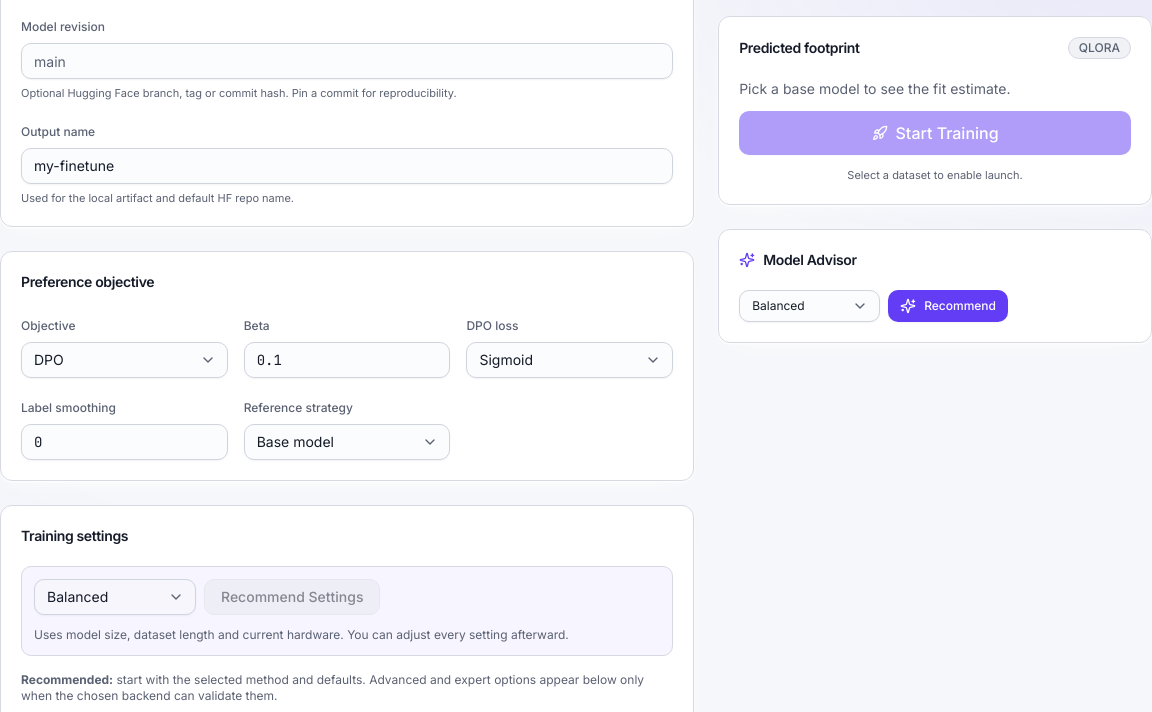
Test: alignment conditional controls › shows only the active objective settings
(page scrolled)
Expected: the text "DPO loss" is shown, [466,318,518,333]
Select "SimPO" in the 2nd dropdown. click: [124, 360]
box: [21,342,228,378]
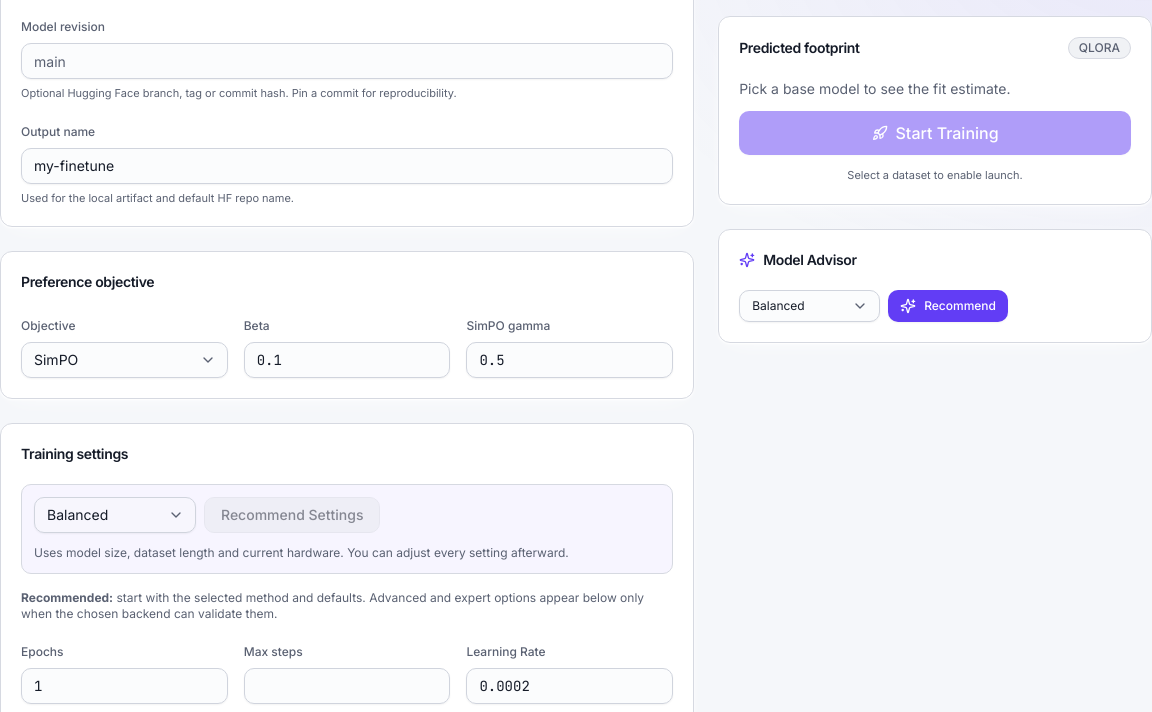
Expected: the text "DPO loss" is gone
Expected: the text "Reference strategy" is gone
Expected: the text "SimPO gamma" is shown, [466,318,550,333]
Select "KTO" in the dropdown below "Beta". click: [124, 360]
box: [21,342,228,378]
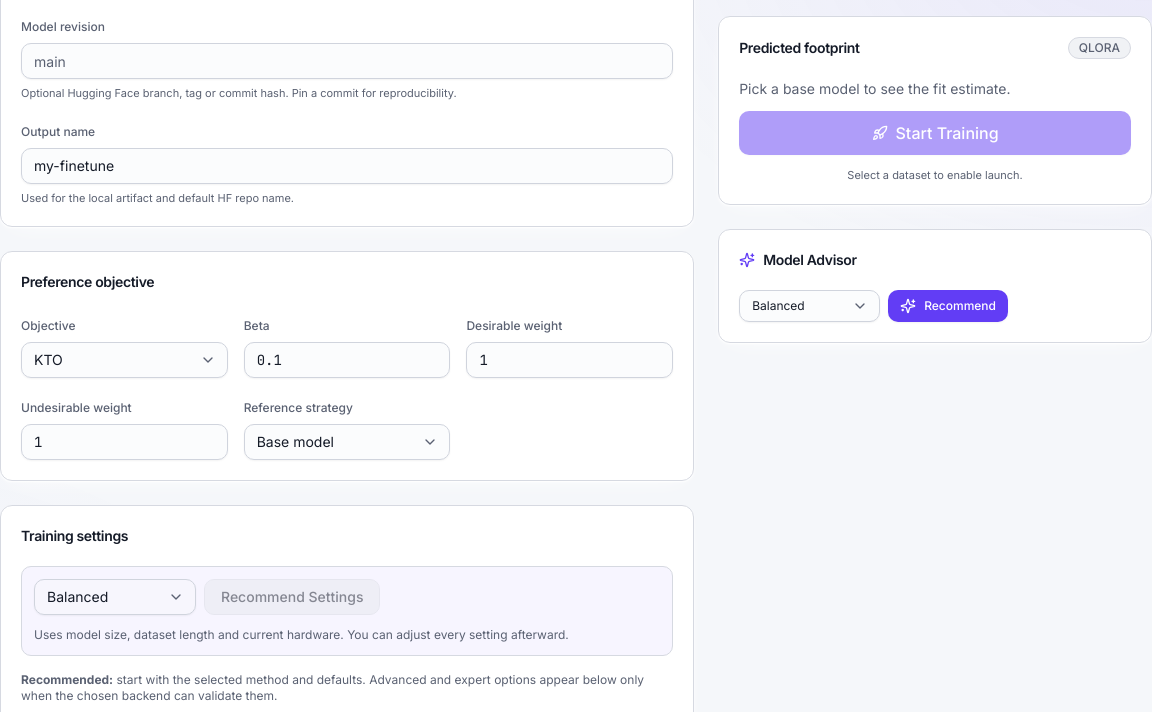
Expected: the text "Desirable weight" is shown, [466,318,562,333]
Expected: the text "SimPO gamma" is gone
Select "Reward model" in the 2nd dropdown. click: [124, 360]
box: [21,342,228,378]
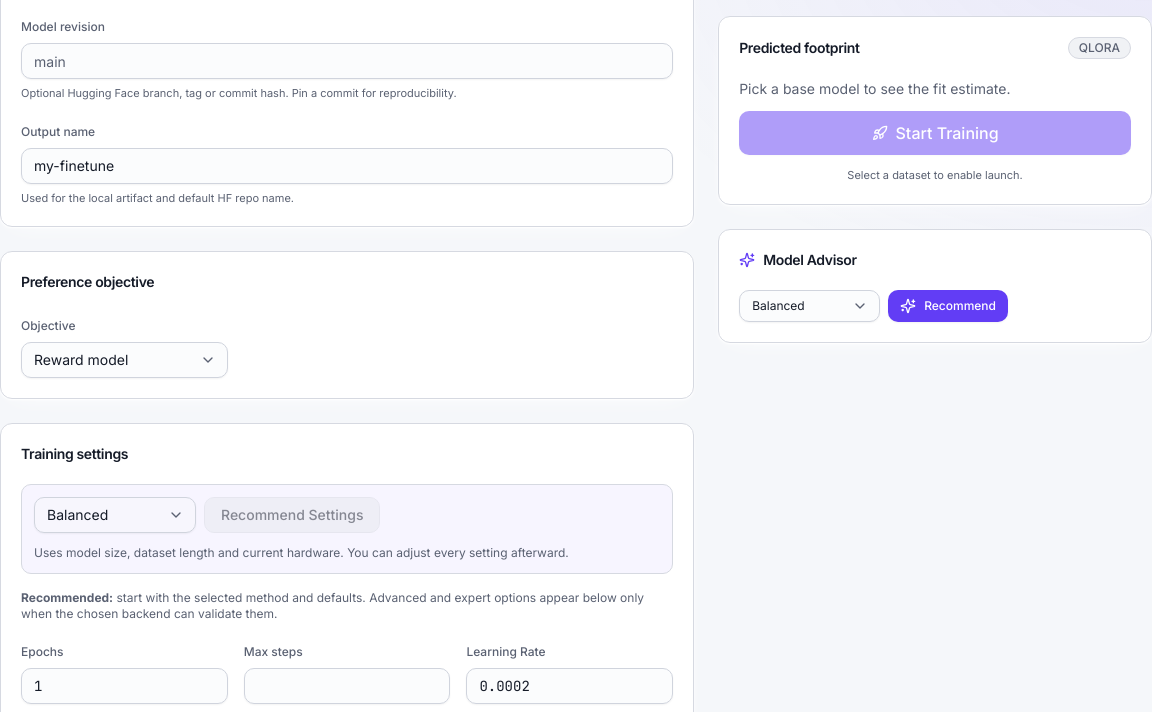
Expected: the text "Beta" is gone
Expected: the text "Reference strategy" is gone
Expected: the text "Desirable weight" is gone
